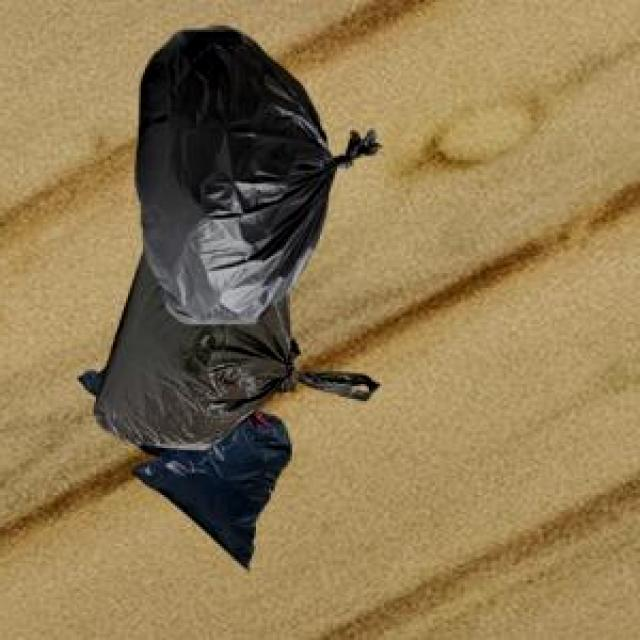Trashbag: (132, 17, 346, 323), (85, 268, 304, 422), (151, 414, 313, 566)
